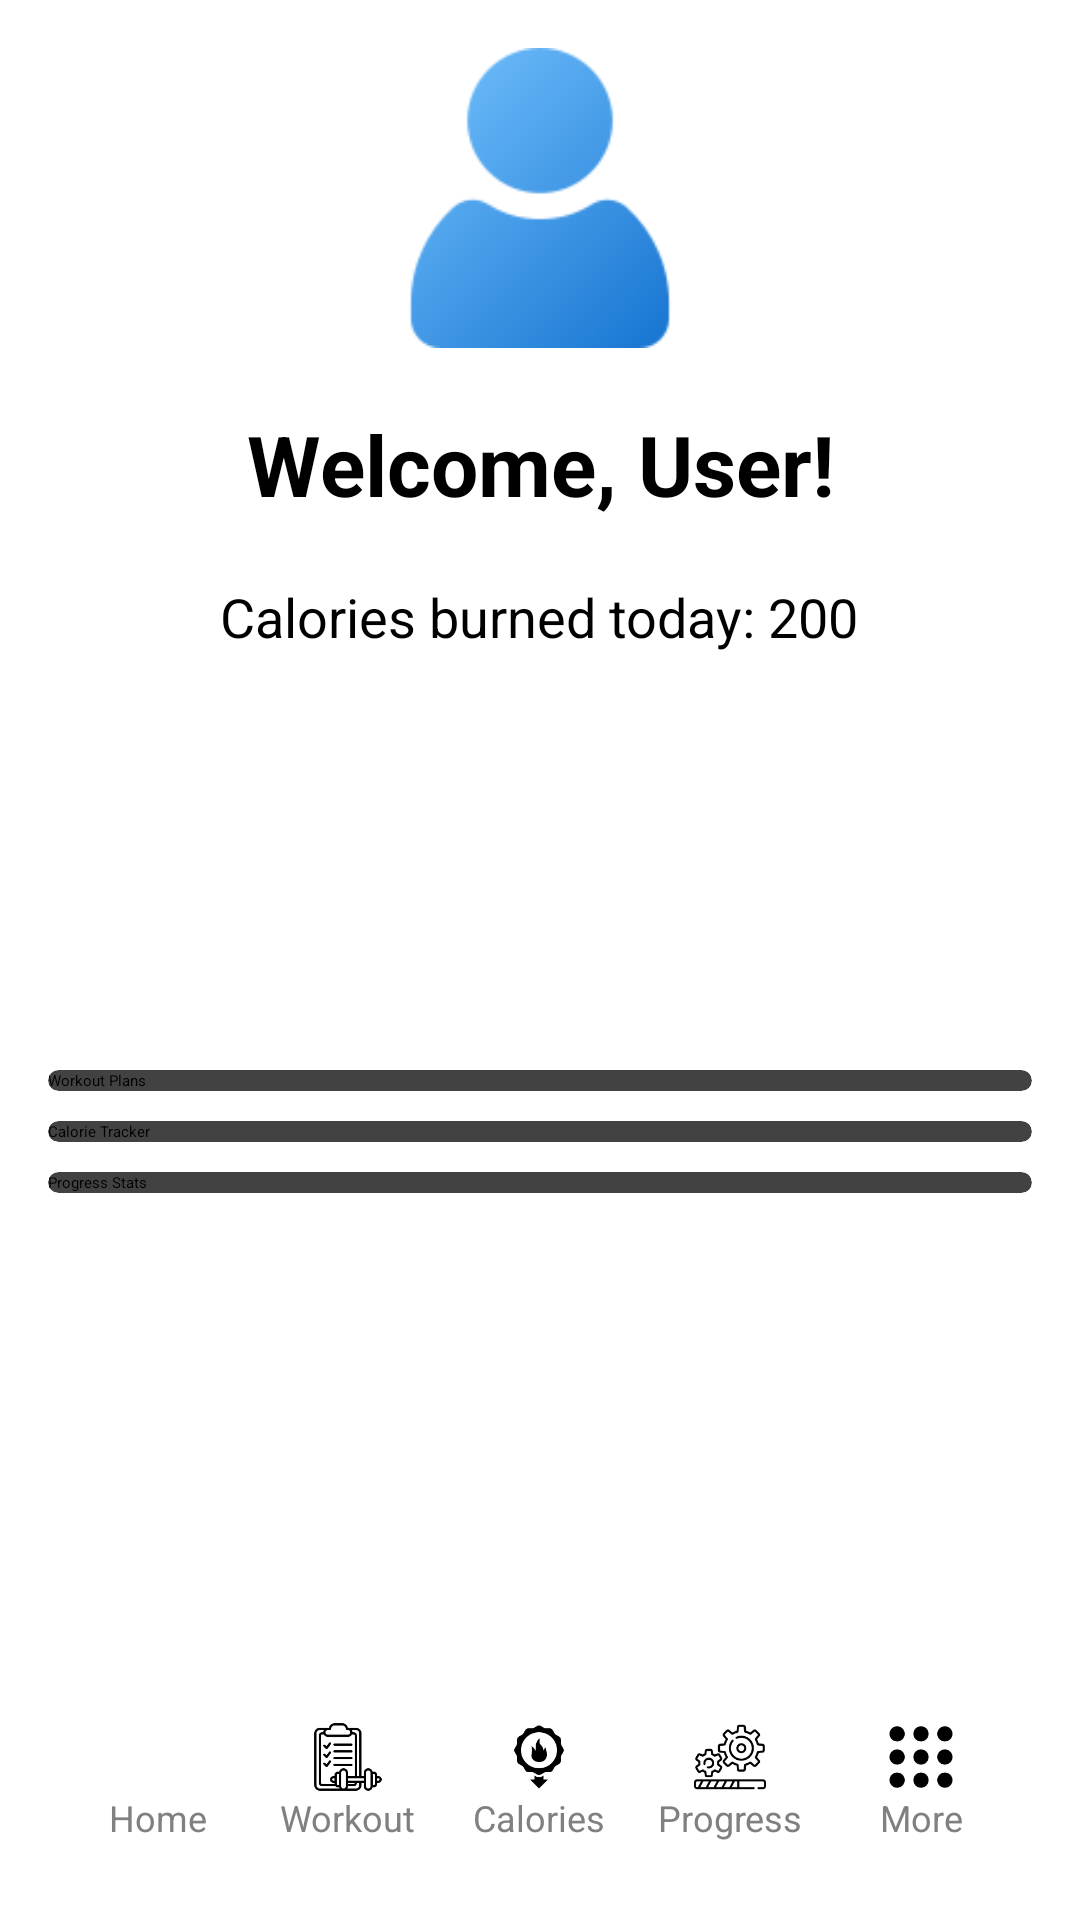

Point at icon controls on the screen. Image size 1080*1920, points as point (x, y).
Profile Picture: point (540, 198)
